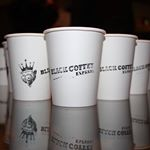cups: (40, 24, 107, 113), (2, 29, 53, 105), (93, 33, 140, 105)
